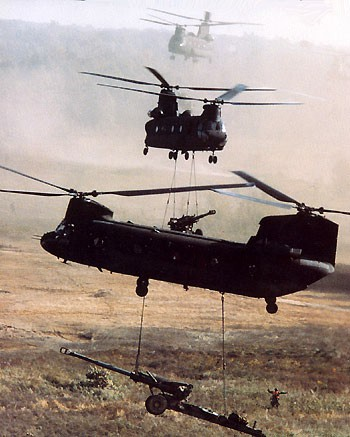chinook: (16, 169, 340, 311), (102, 69, 269, 165), (149, 14, 252, 62)
